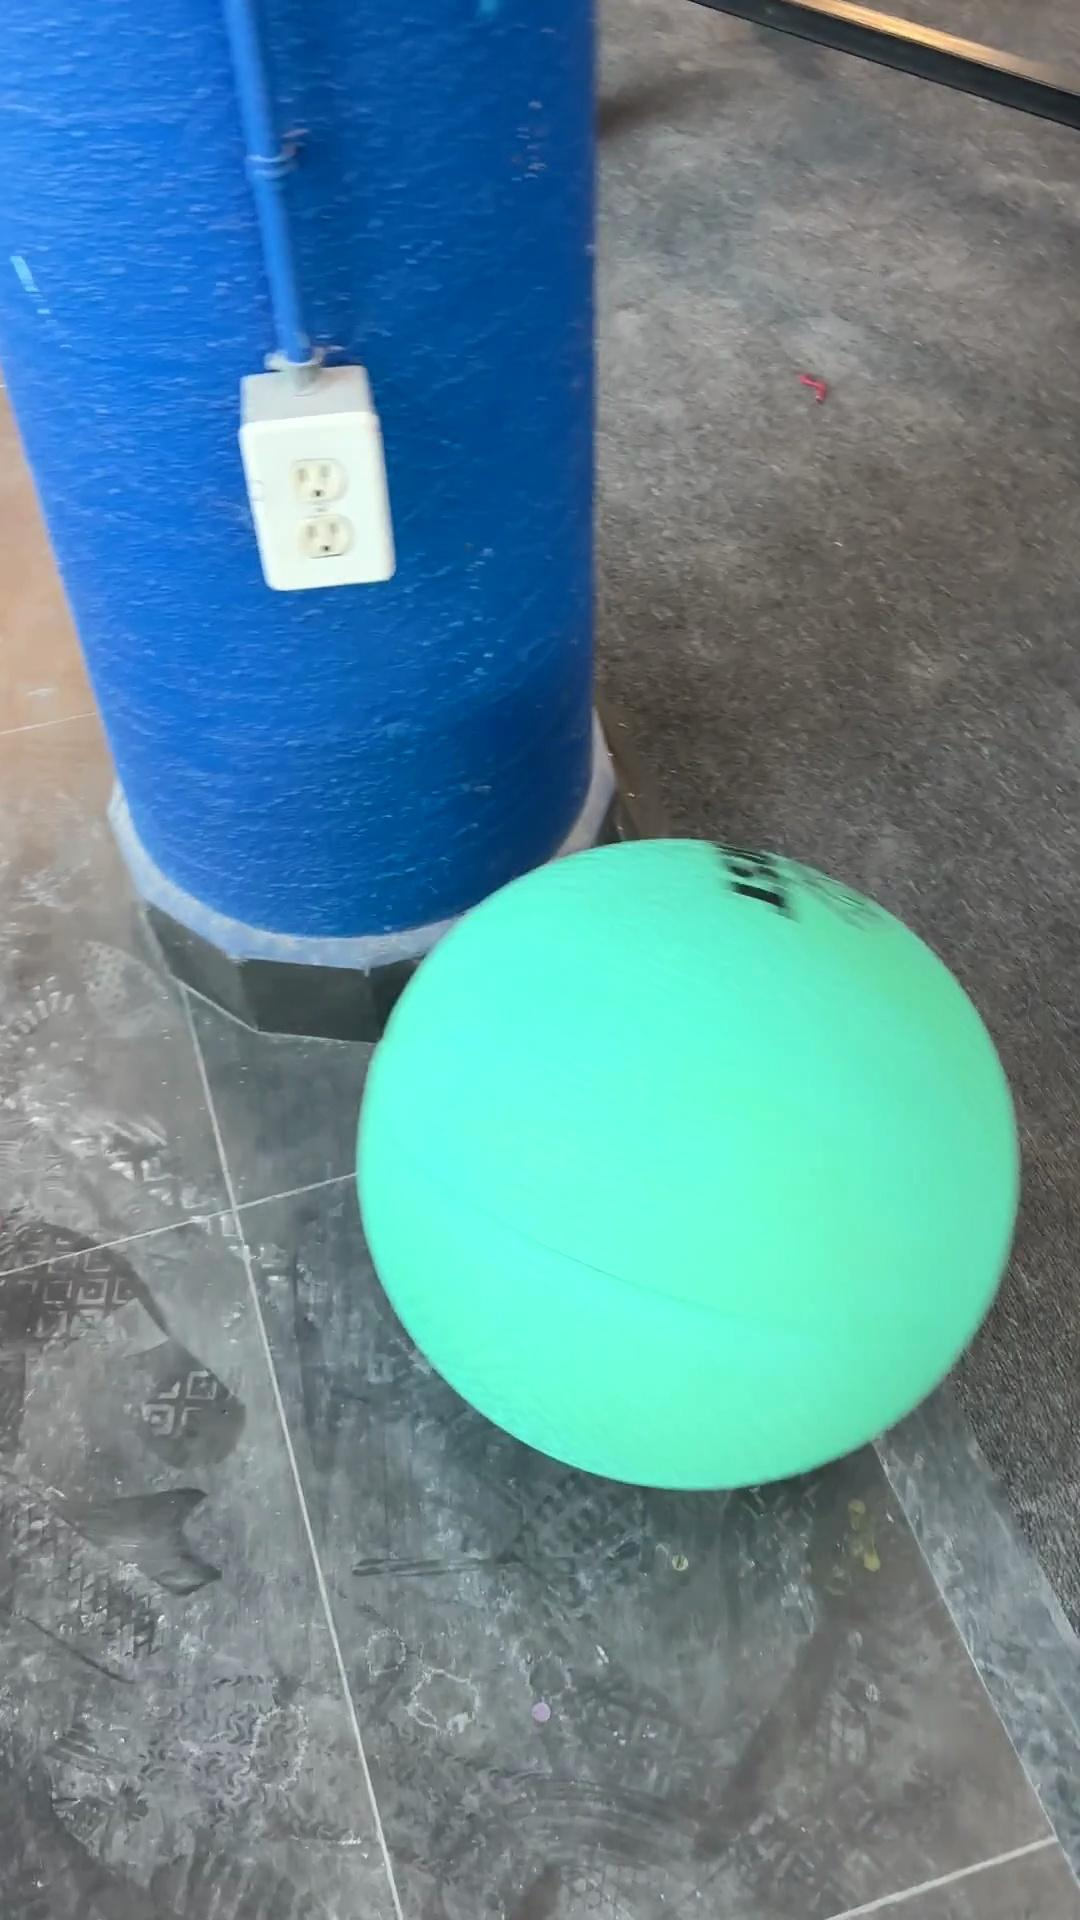ALGAE: (352, 833, 1025, 1493)
